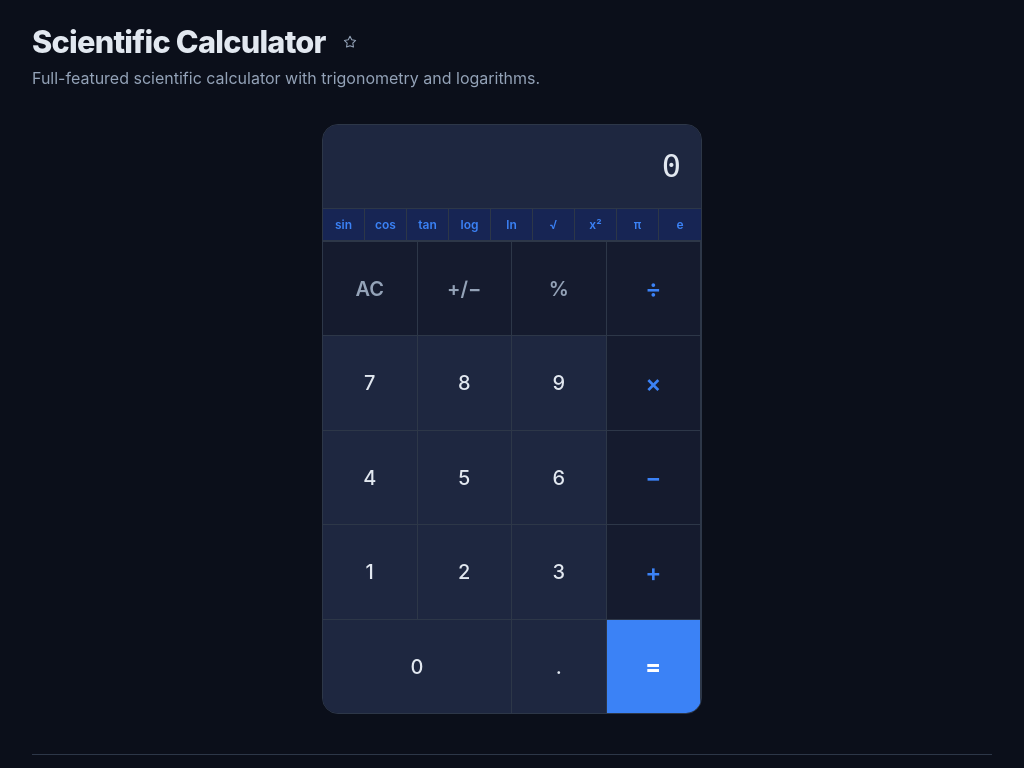
Test: ScientificCalc › clicking π shows pi value in display
Click the button "π": (638, 224) x1=617 y1=209 x2=659 y2=240
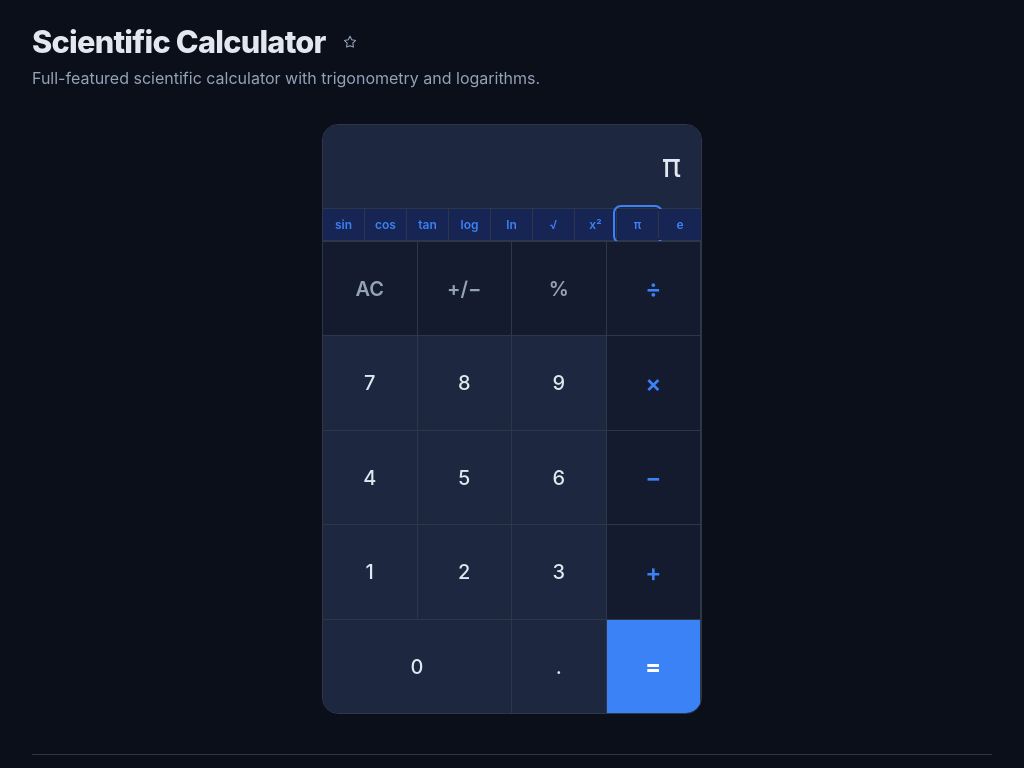
Click the button "=": (654, 666) x1=606 y1=619 x2=701 y2=713
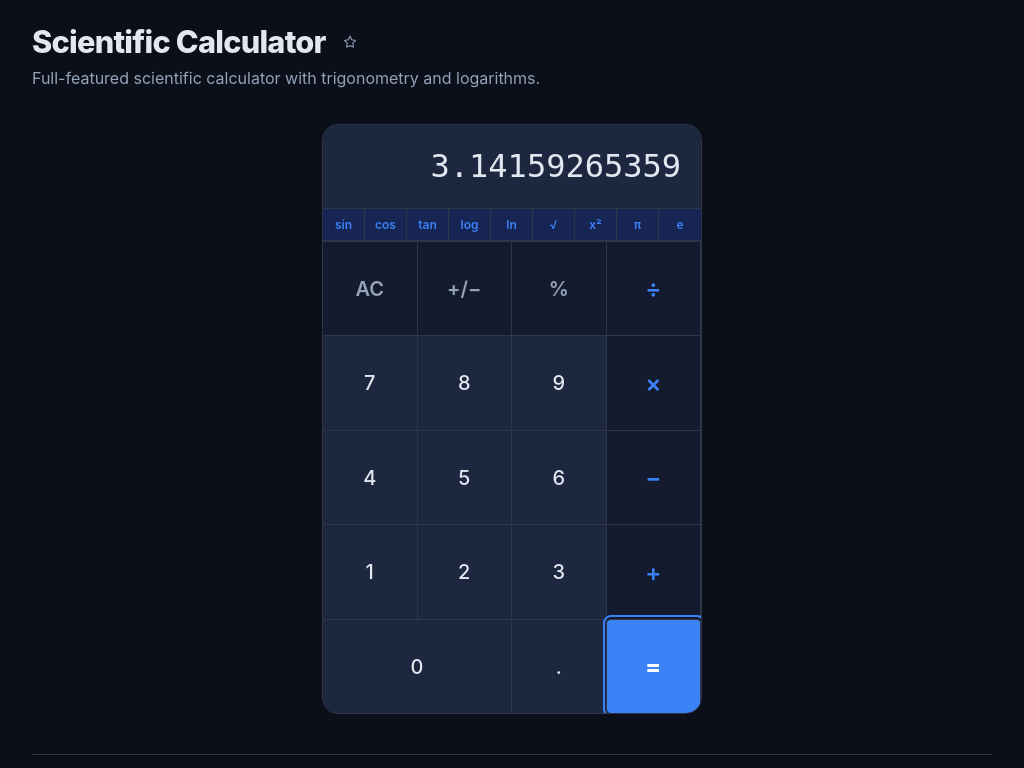
Now the field named "Display" shows "3.14", box x1=430 y1=147 x2=681 y2=185
